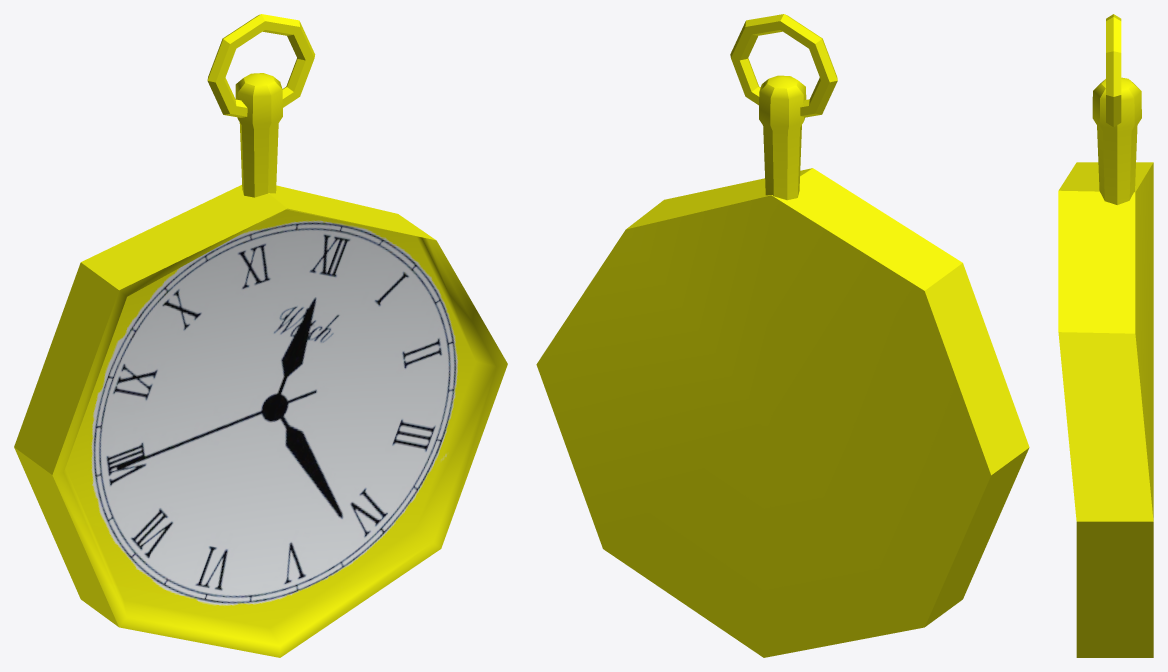
The model's file is Stopwatch 1.fbx.
3 renders of one model, left to right at view 1: azimuth 30°, elevation 25°; view 2: azimuth 150°, elevation 25°; view 3: azimuth 270°, elevation 25°, orthographic.
Visible parts, largest first — view 1: pCylinder3; view 2: pCylinder3; view 3: pCylinder3.
Part boxes in pixels (bbox=[...]): pCylinder3: bbox=[14, 14, 507, 657]; pCylinder3: bbox=[536, 14, 1029, 657]; pCylinder3: bbox=[1058, 14, 1153, 657].
Bounding box in the file's own units: 2.89 × 3.83 × 0.5217.
